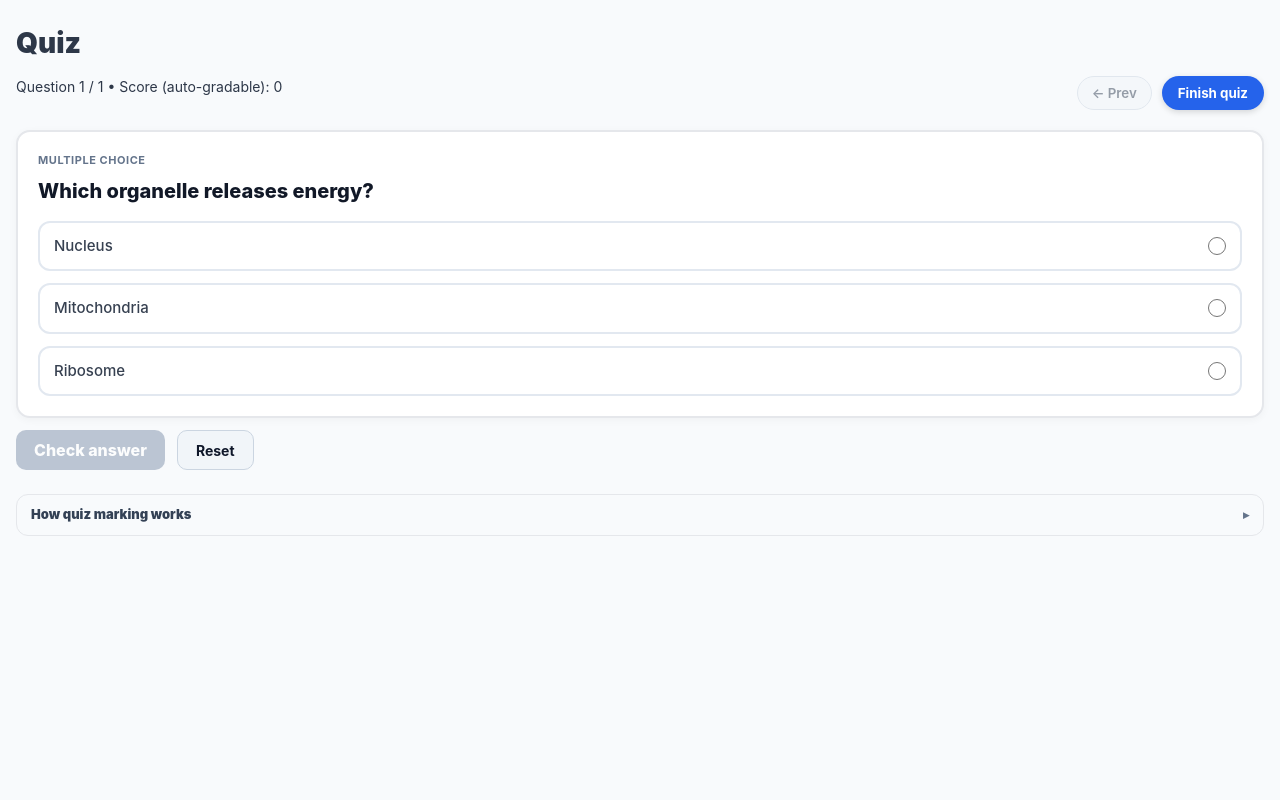
Scenario: QuizView MCQ feedback › shows shared feedback panel with correct marks for a correct answer
Click the radio button named "Mitochondria": [1217, 308] box [1208,299,1226,317]
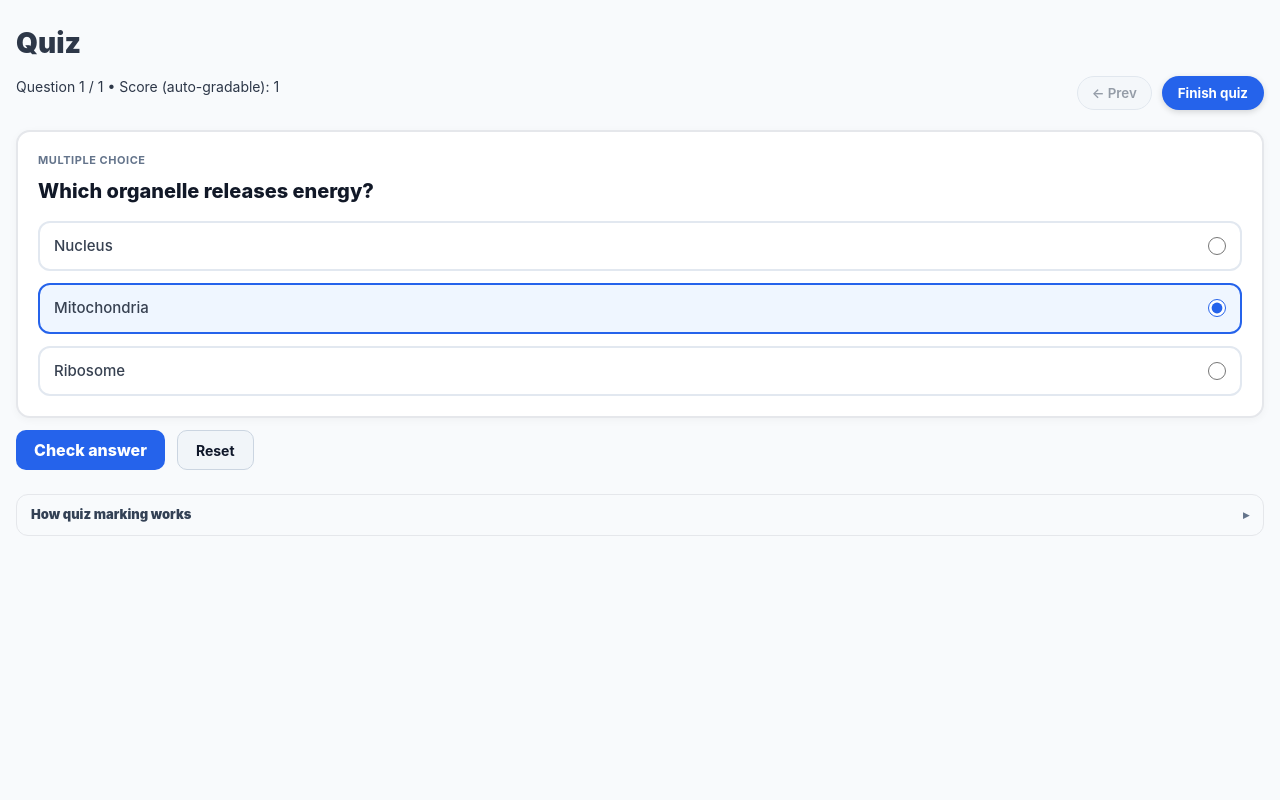
Click the button "Check answer": [90, 450] box [16,430,165,470]
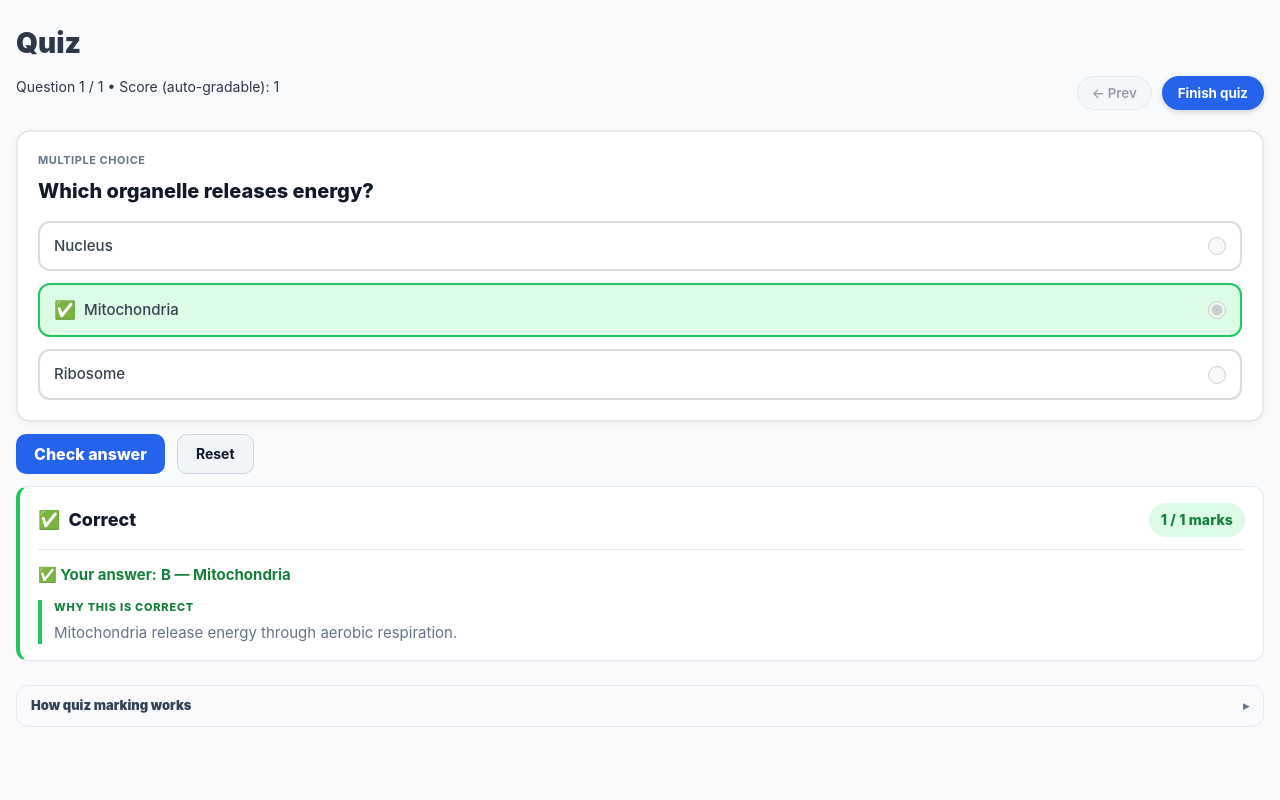
Now the element with test id "answer-feedback-hero" shows "Correct", box [68,509,136,530]
Now the text with test id "answer-feedback-score-badge" reads "1 / 1 marks", box [1149,503,1245,537]
Now the element with test id "answer-feedback-your-answer" shows "✅ Your answer:", box [38,565,157,584]
